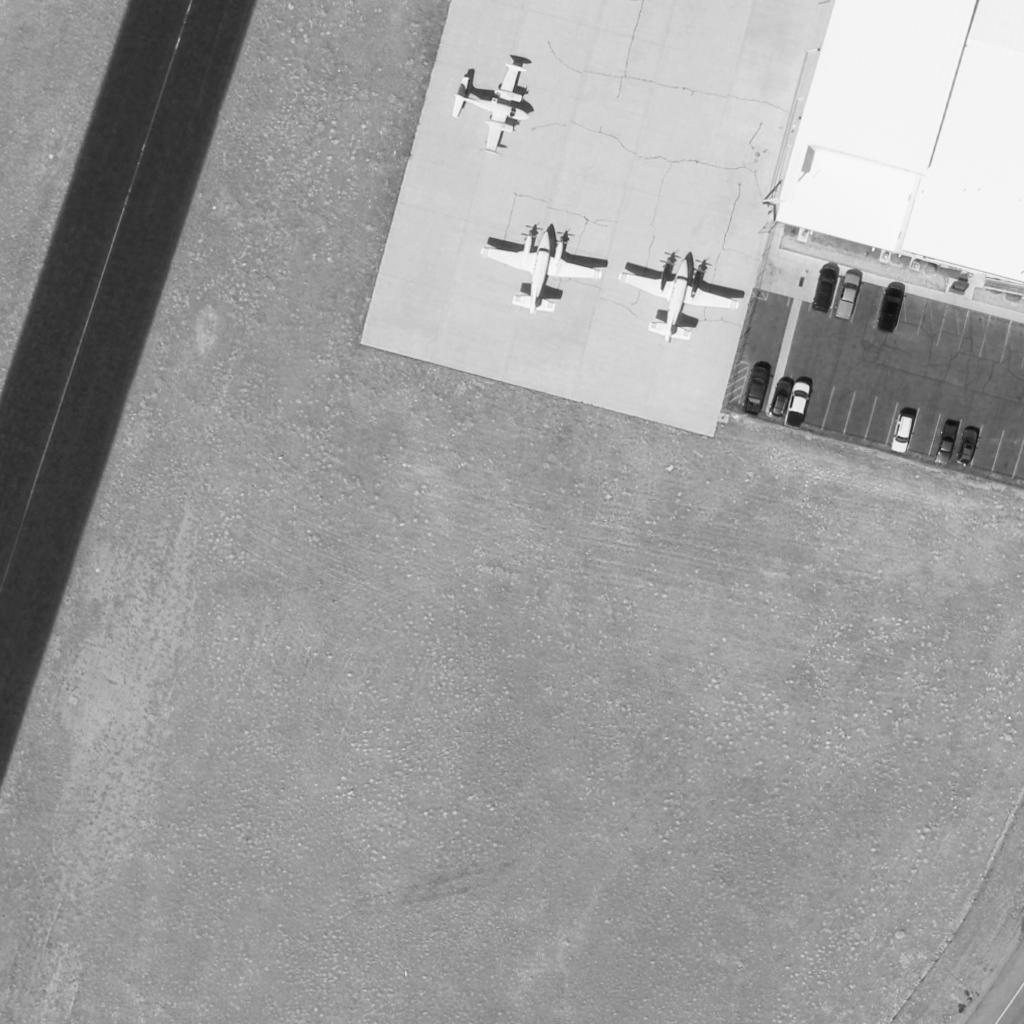vehicle: (875, 282, 907, 332), (886, 414, 918, 456), (932, 419, 960, 465), (746, 364, 770, 416), (838, 268, 862, 320), (814, 268, 838, 314), (787, 379, 809, 429), (770, 375, 794, 417), (957, 427, 975, 465)
